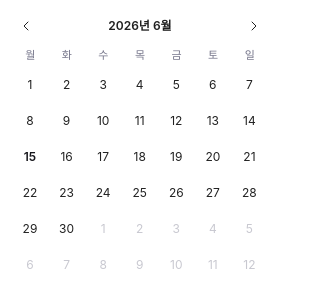
Test: Calendar › prev/next buttons change the visible month
Click the button named "다음 달". click: (254, 26)
box: [240,12,268,40]
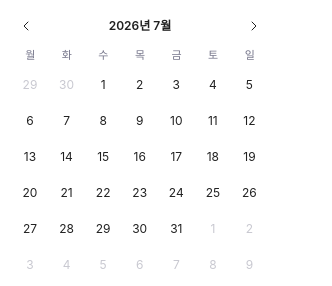
Result: the text "2026년 7월" is shown at [109,18,171,34]
Click the button named "이전 달". click: (26, 26)
box: [12,12,40,40]
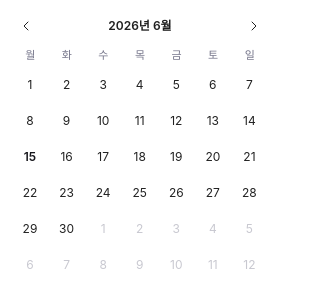
Click the button named "이전 달". click: (26, 26)
box: [12,12,40,40]
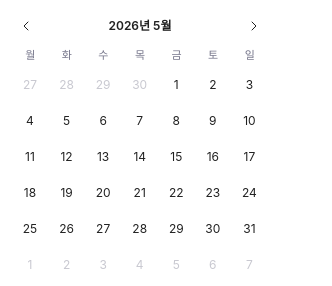
Result: the text "2026년 5월" is shown at [108,18,172,34]
